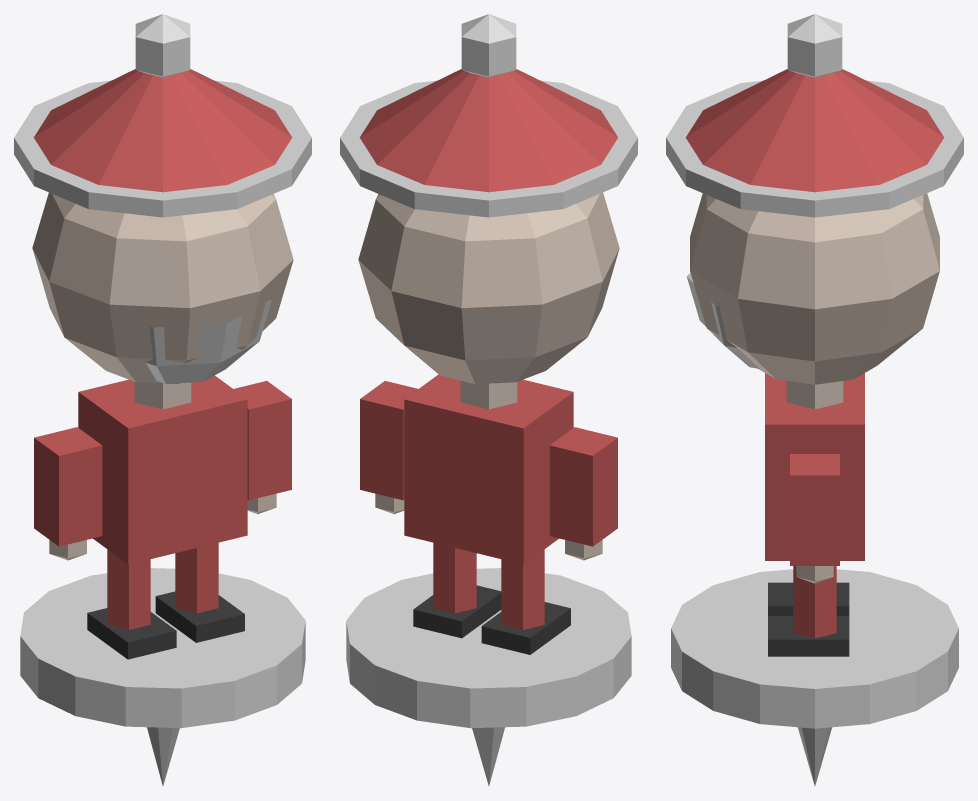
Rendered from chibi_themed.glb.
3 renders of one model, left to right at view 1: azimuth 30°, elevation 25°; view 2: azimuth 150°, elevation 25°; view 3: azimuth 270°, elevation 25°, orthographic.
Parts seen in each view (by area): view 1: chibi_themed; view 2: chibi_themed; view 3: chibi_themed.
Boxes of the visible parts, box(x1,y1,x2,y2) form: chibi_themed: box(14, 14, 311, 785); chibi_themed: box(340, 14, 637, 785); chibi_themed: box(666, 14, 963, 785).
Bounding box in the file's own units: 0.476 × 1.36 × 0.476.
